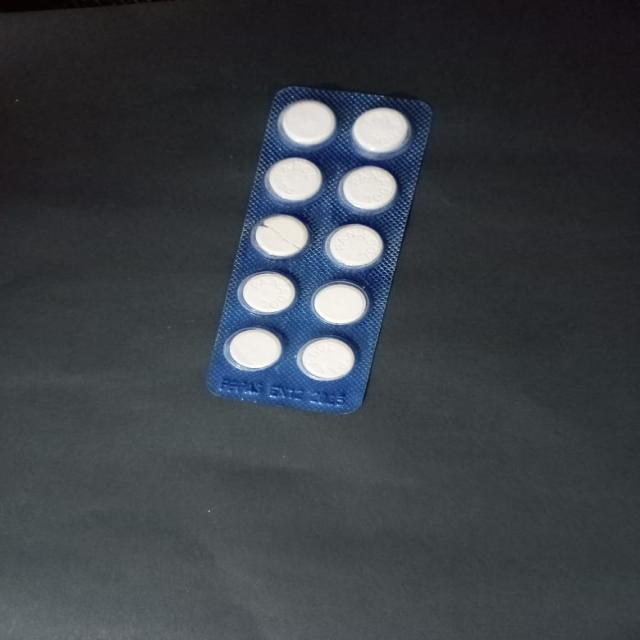defect: (248, 212, 315, 261)
